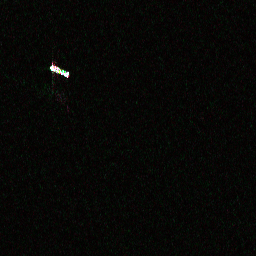ship: (47, 62, 72, 80)
